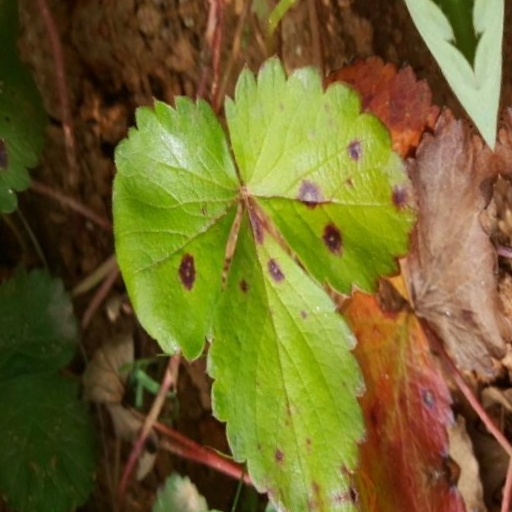Leaf Spot: (175, 199, 335, 511), (259, 62, 428, 324), (120, 76, 258, 346), (293, 297, 414, 511)
